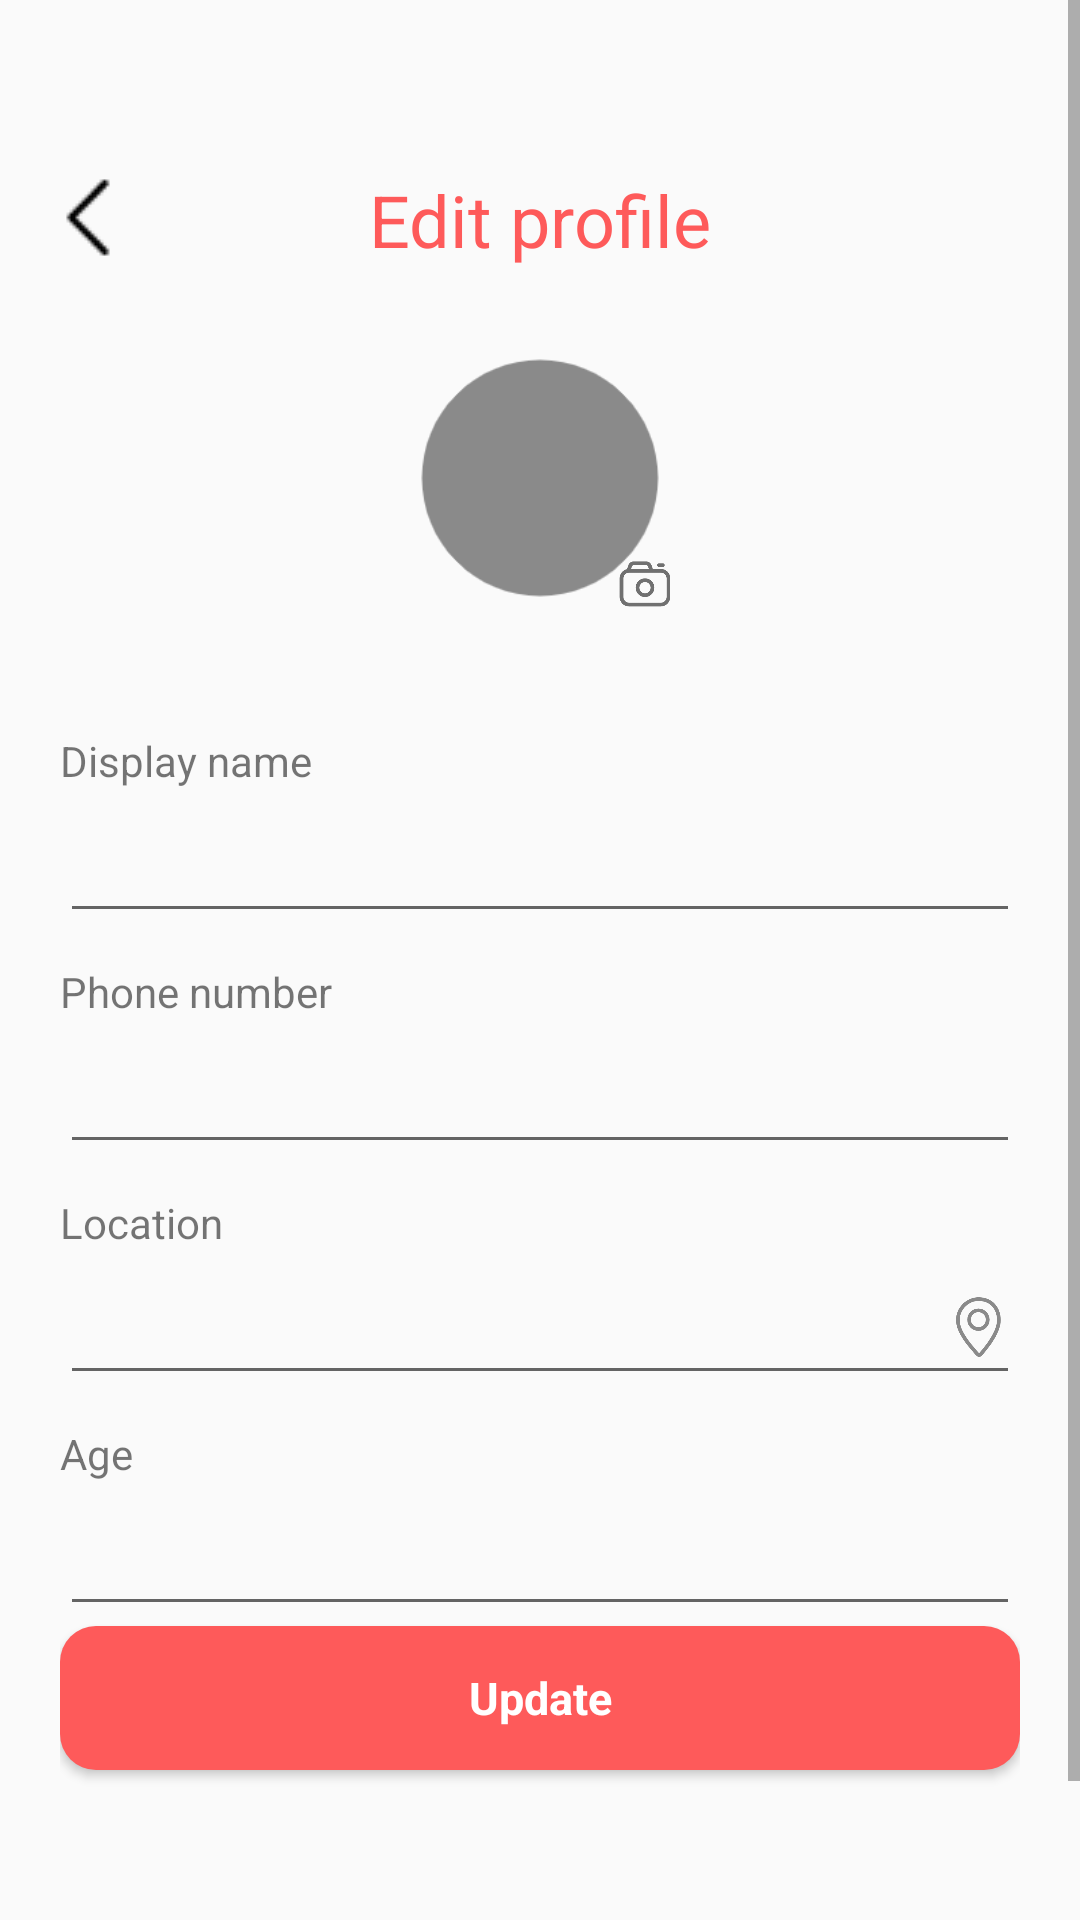

Point at icon controls on the screen. Image size 1080 x 1920, points as point (x, y).
back: point (88, 217)
